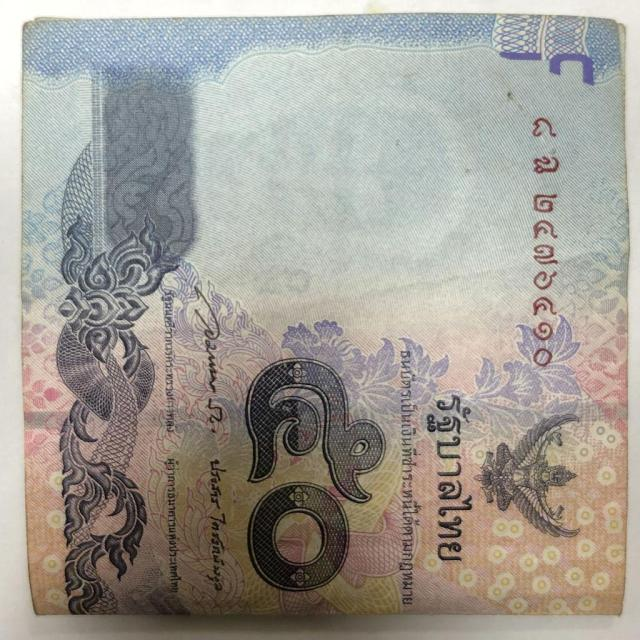THAI50: (19, 9, 631, 626)
